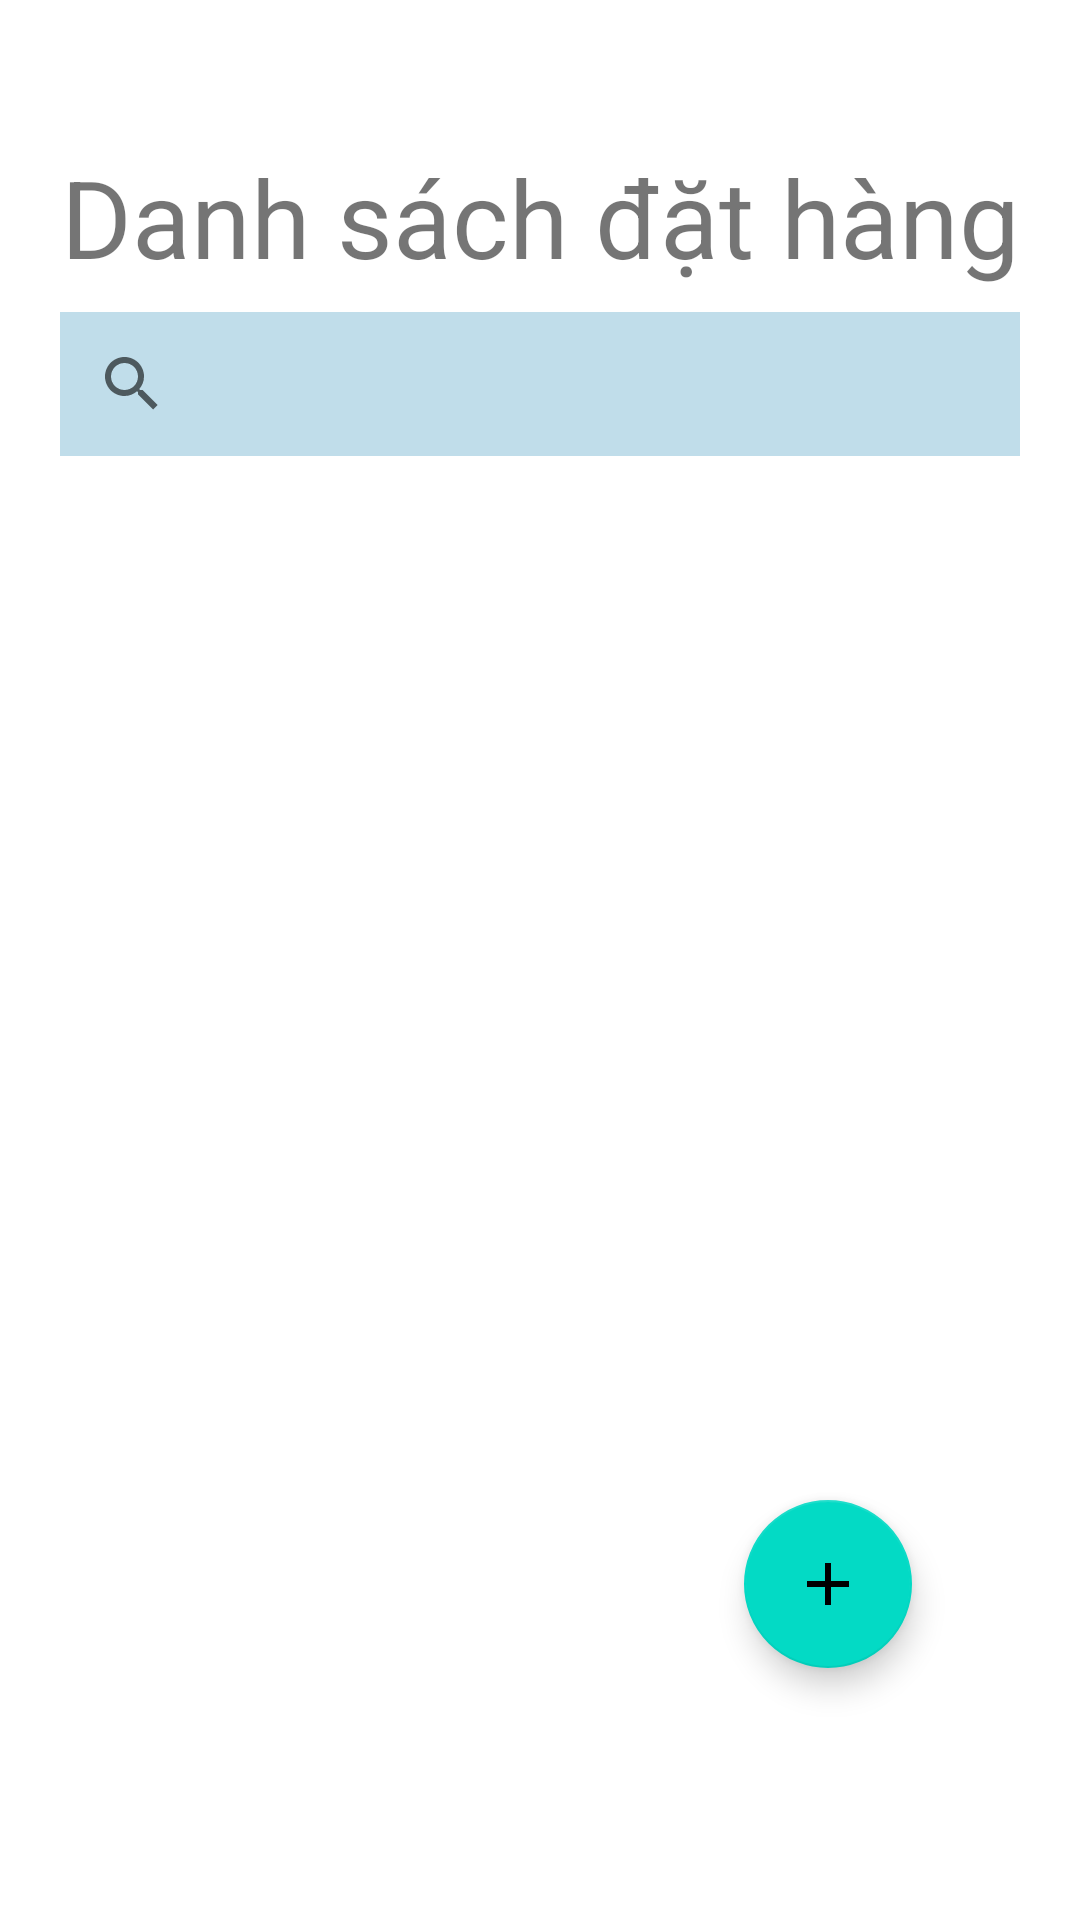

Screen size 1080*1920. Icon name, then its center in pixels as [x,y]:
add: [828,1584]
